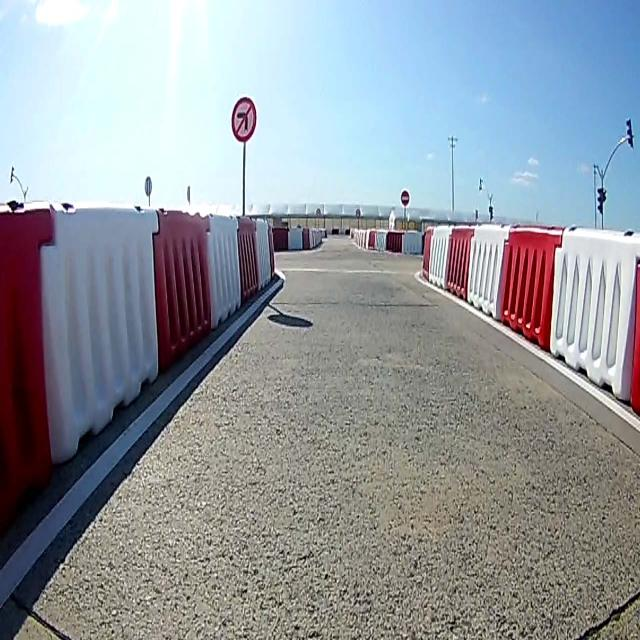girisyok: (400, 189, 410, 207)
soladonulmez: (231, 97, 257, 142)
